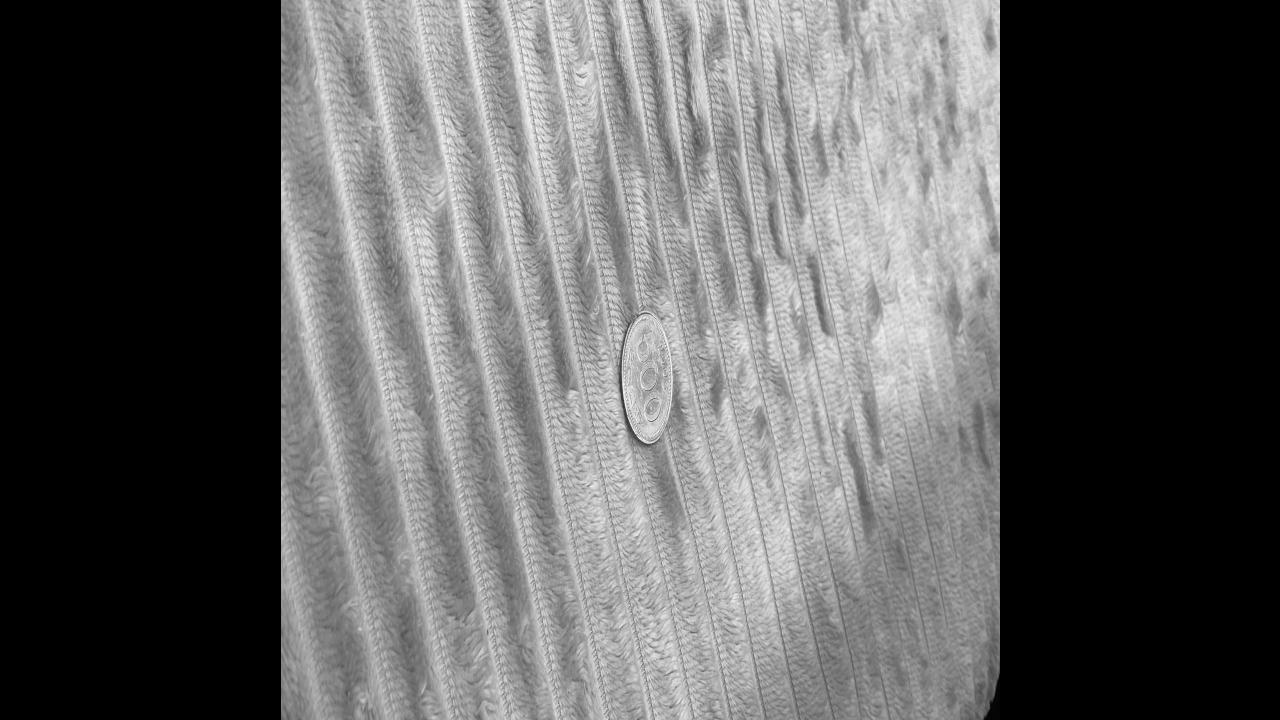coin: (617, 310, 674, 446)
